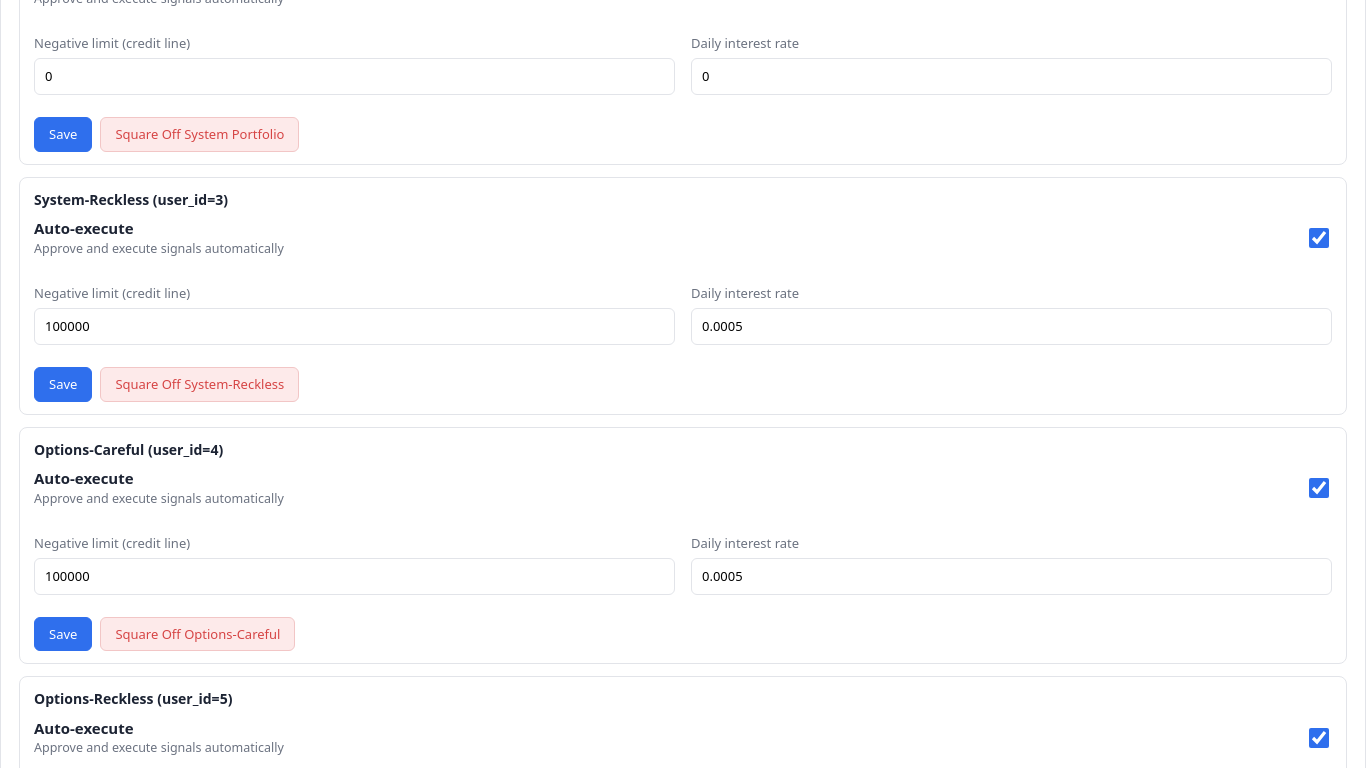
Test: Admin › square off requires confirmation then sells all holdings
This screenshot has width=1366, height=768.
(page scrolled)
Click the button with test id "square-off-3" at (200, 384), box [100,367,299,402]
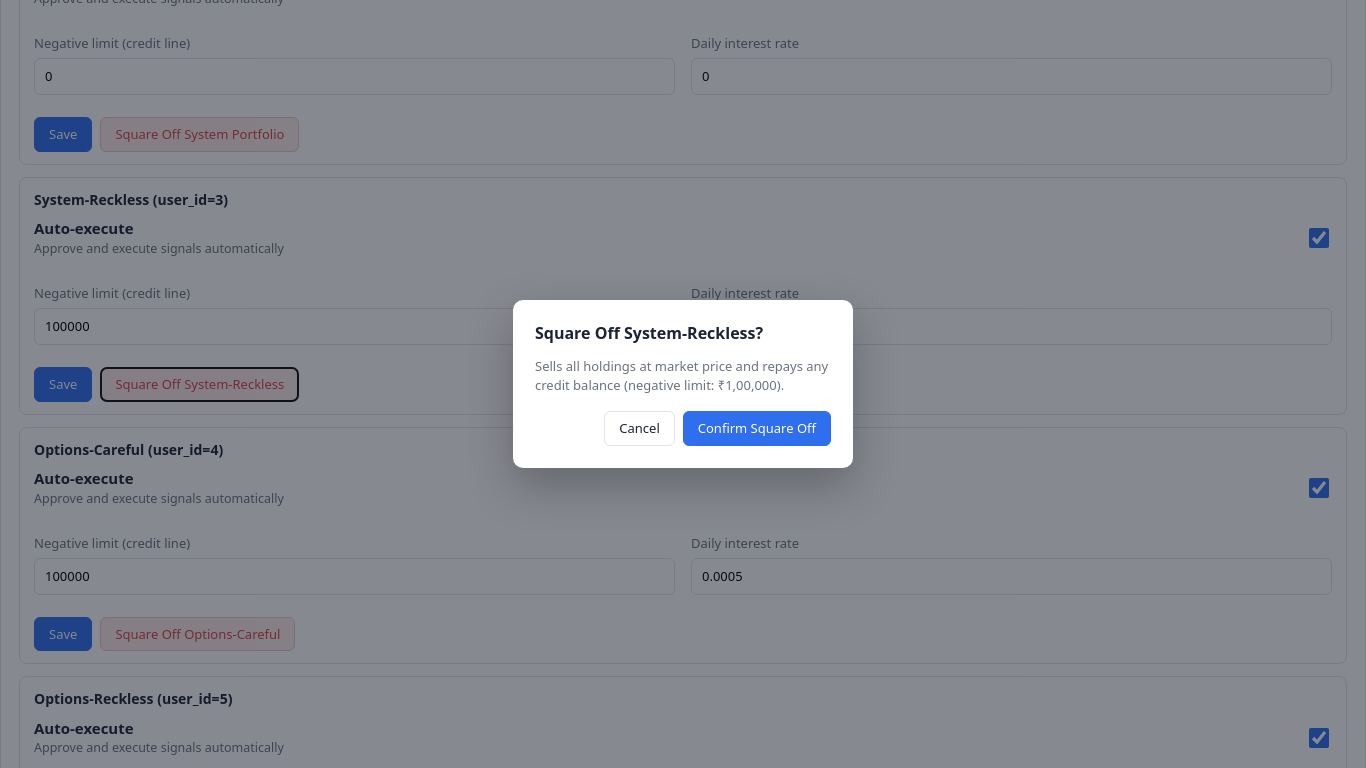
Expected: the element with test id "square-off-confirm" is shown
Click the button with test id "square-off-confirm-button" at (757, 428), box [683,411,831,446]
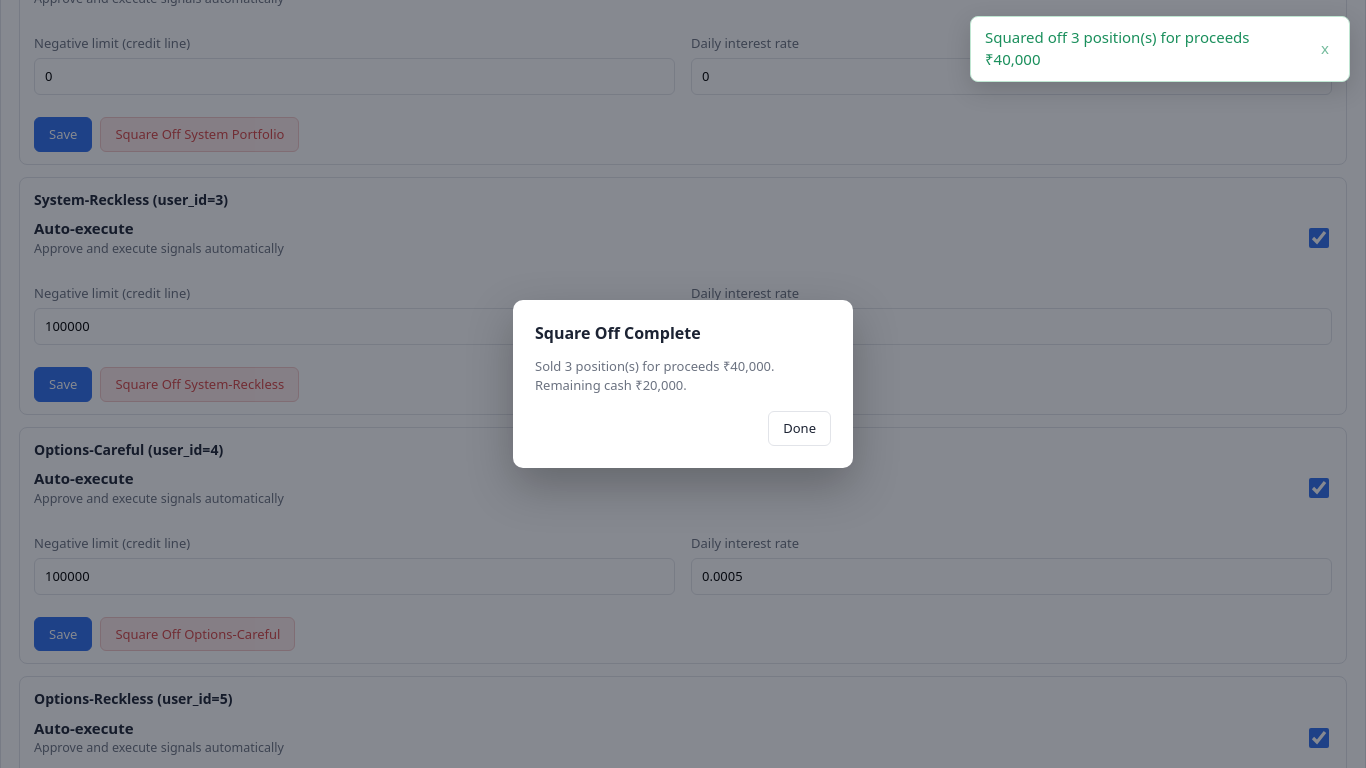
Expected: the text "Sold 3 position(s) for proceeds" is shown, [535,357,774,394]
Expected: the heading "Square Off Complete" is shown, [535,322,701,344]
